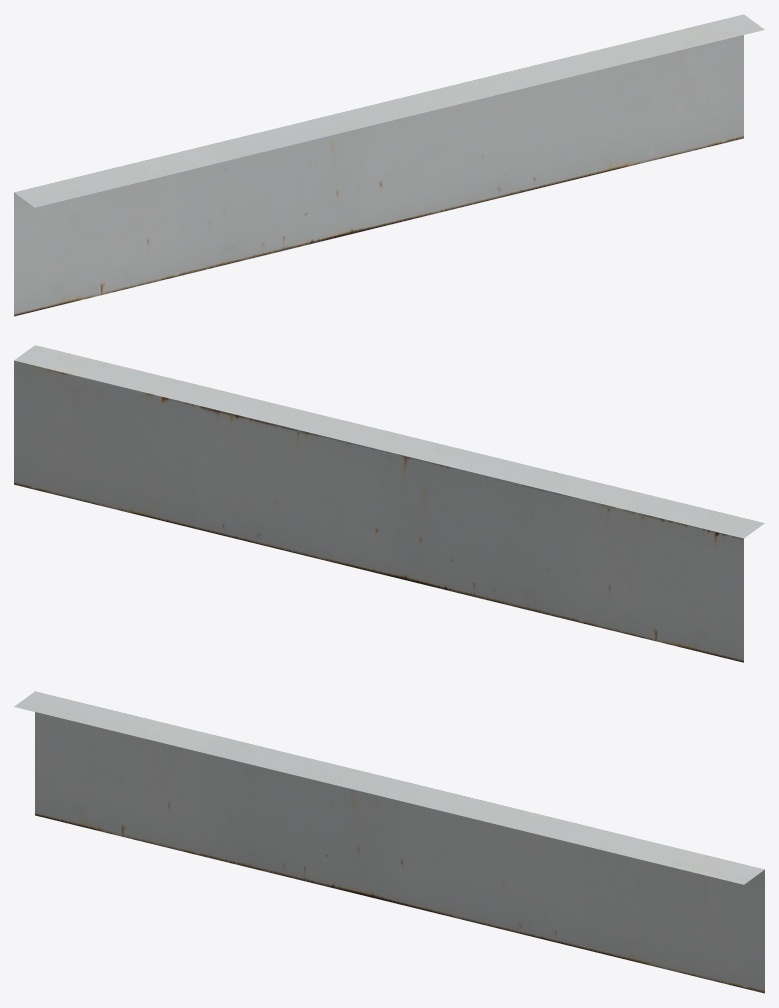
File: Preset_WallHwyA.fbx
3 views of the same model, one above another, from view 1: azimuth 30°, elevation 25°; view 2: azimuth 150°, elevation 25°; view 3: azimuth 330°, elevation 25° (orthographic).
Parts seen in each view (by area): view 1: Body; view 2: Body; view 3: Body.
Boxes of the visible parts, box(x1,y1,x2,y2) form: Body: box(14, 14, 764, 316); Body: box(14, 345, 764, 662); Body: box(14, 691, 764, 993).
Bounding box in the file's own units: 400 × 20 × 65.
1 material, 1 textured.
